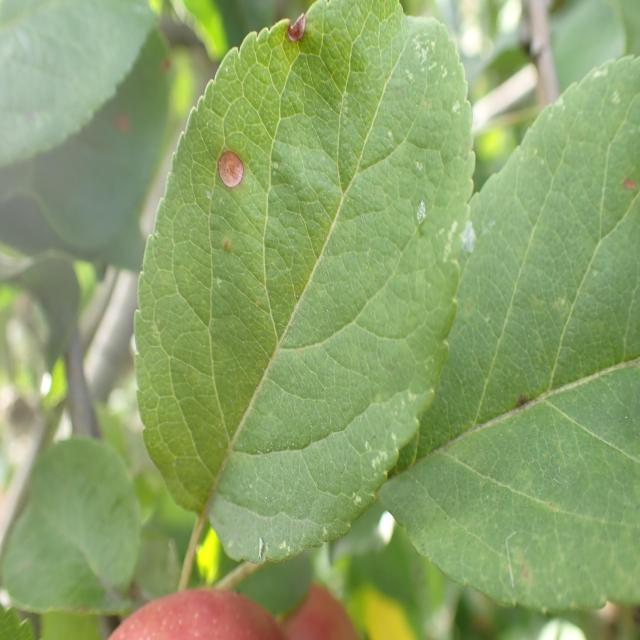Black Rot: (212, 132, 252, 208), (278, 2, 318, 54)
